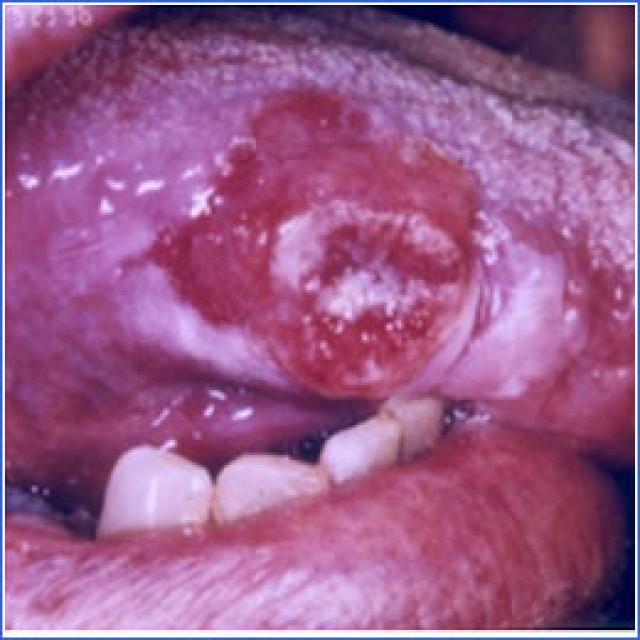Cancer: (90, 100, 605, 416)
